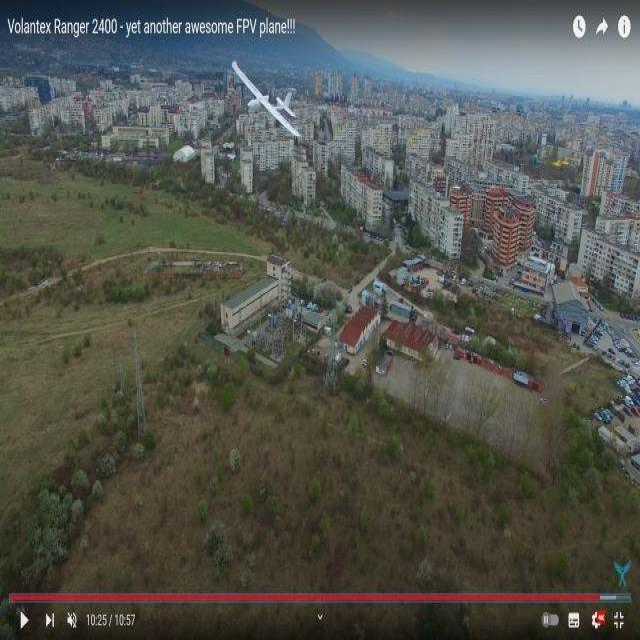Airplane: (228, 56, 306, 144)
